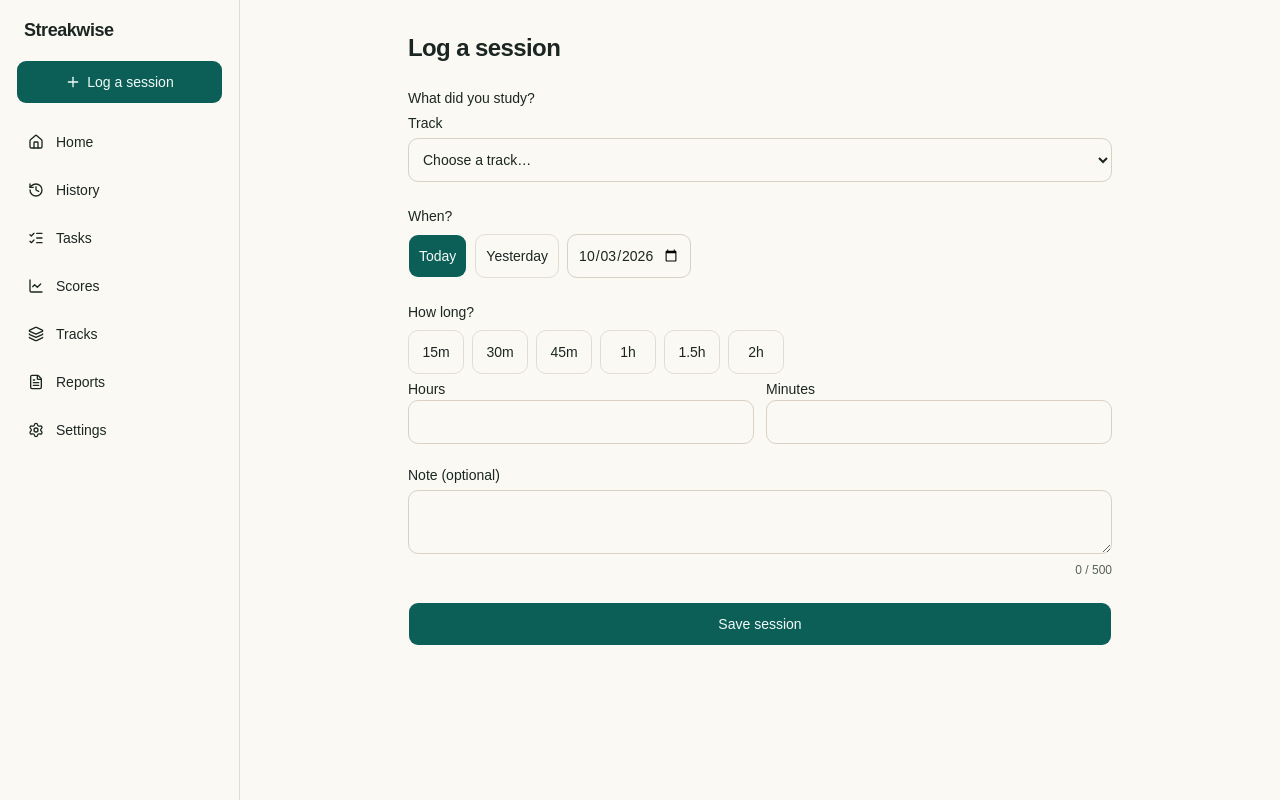
Test case: Log form (LOG-2–5) › explains what is missing instead of saving
Click the button "Save session" at (760, 624), box 408,602 -> 1112,646
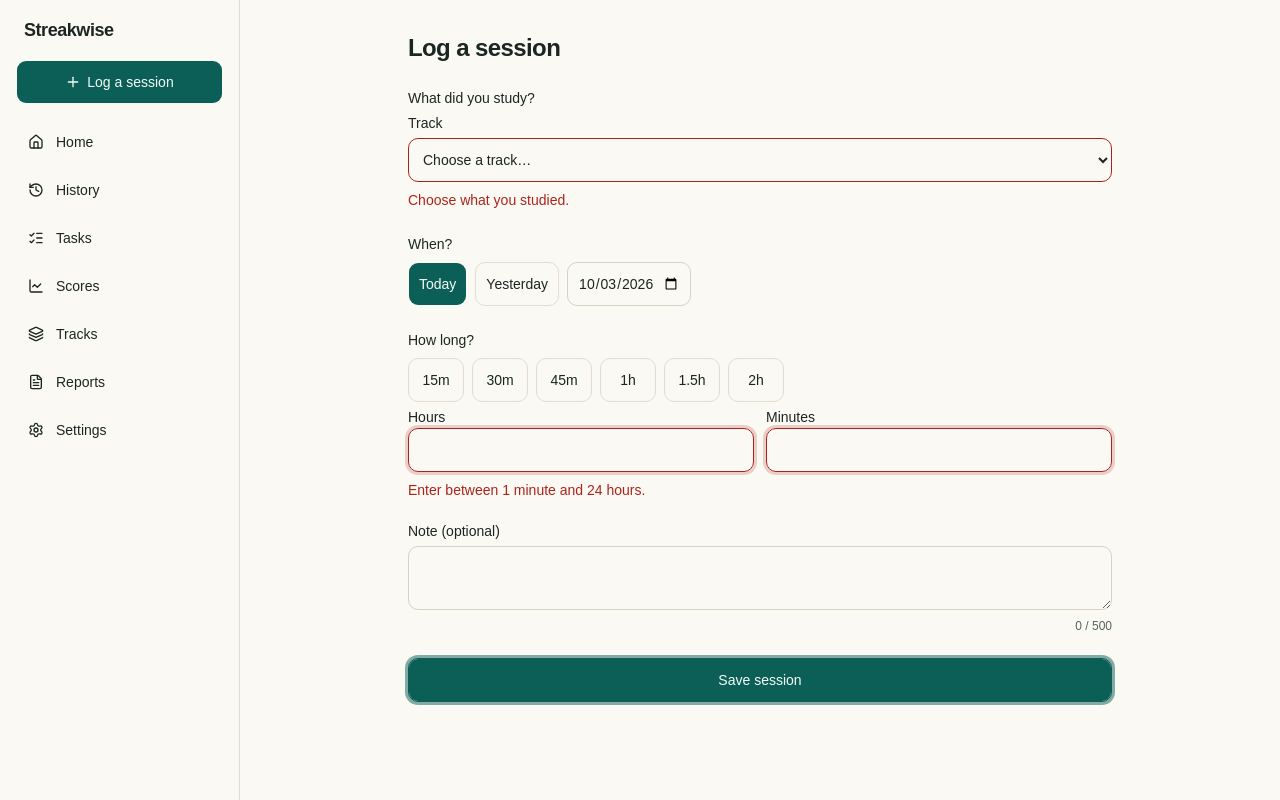
Result: the text "Choose what you studied." is shown at 408,192 -> 569,208
Result: the text "Enter between 1 minute and 24 hours." is shown at 408,482 -> 645,498
